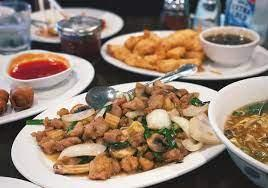Braised Crucian Carp: (12, 81, 226, 186), (101, 29, 266, 80), (0, 49, 94, 126)
